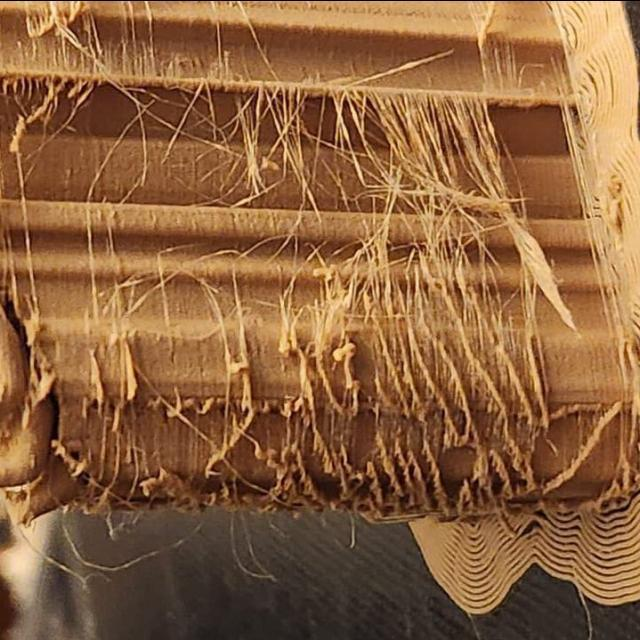Stringing: (331, 92, 578, 506), (228, 85, 308, 183), (6, 78, 72, 156)
